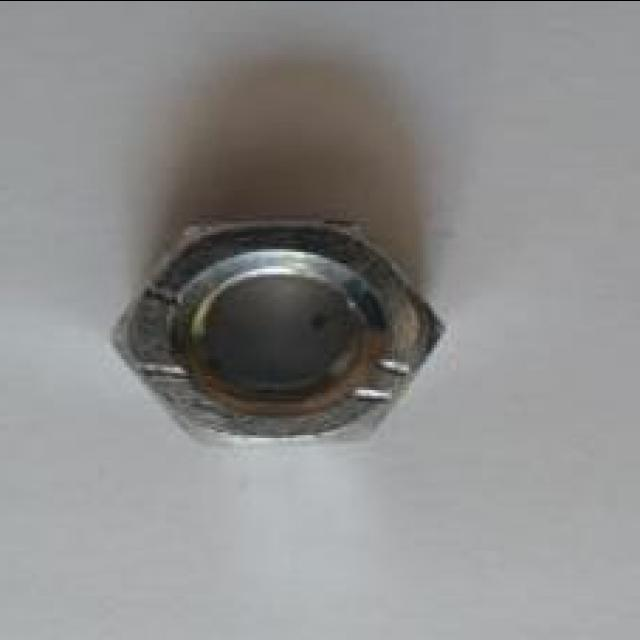ecrouOK: (106, 216, 452, 448)
